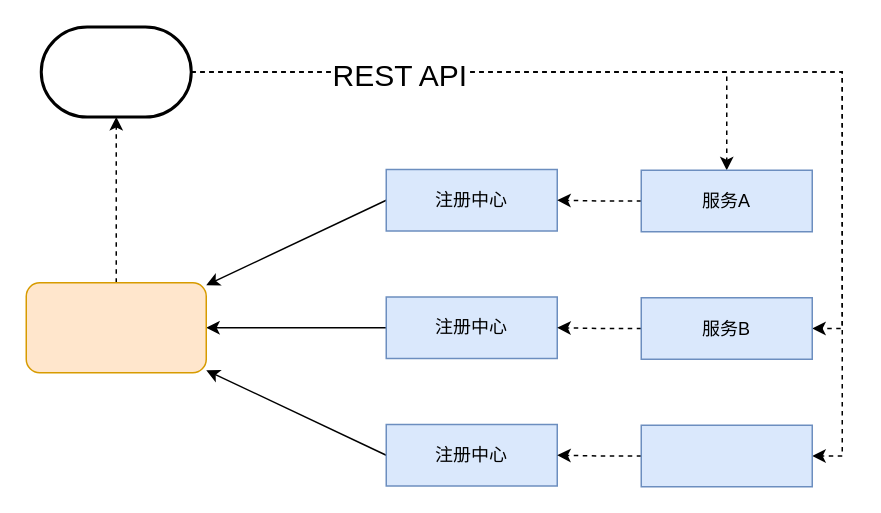
The diagram is 881 pixels wide and 513 high, and some of its shapes have lost their labels. The shapes that lost their labels are listed below. From the top down, each one's centre as x and y in pixels, then its label:
(115,71): 服务发现
(115,327): 服务注册
(726,455): 服务C
